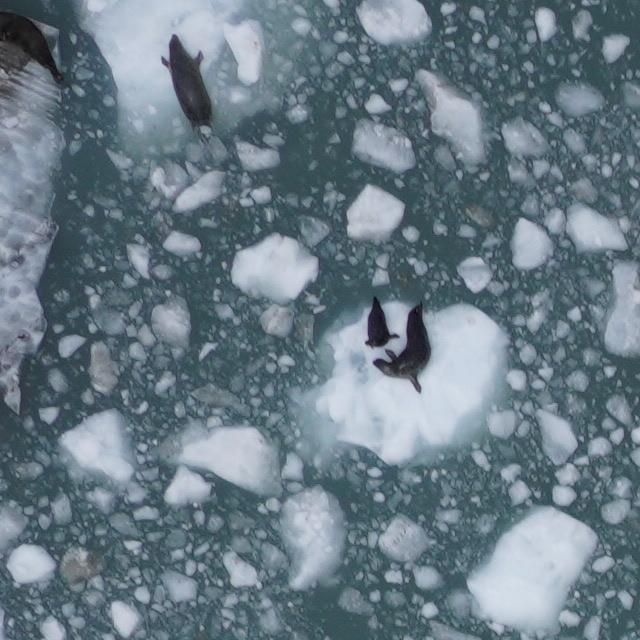seal: (155, 30, 220, 148), (368, 296, 436, 398), (0, 7, 67, 86), (361, 292, 404, 352)
